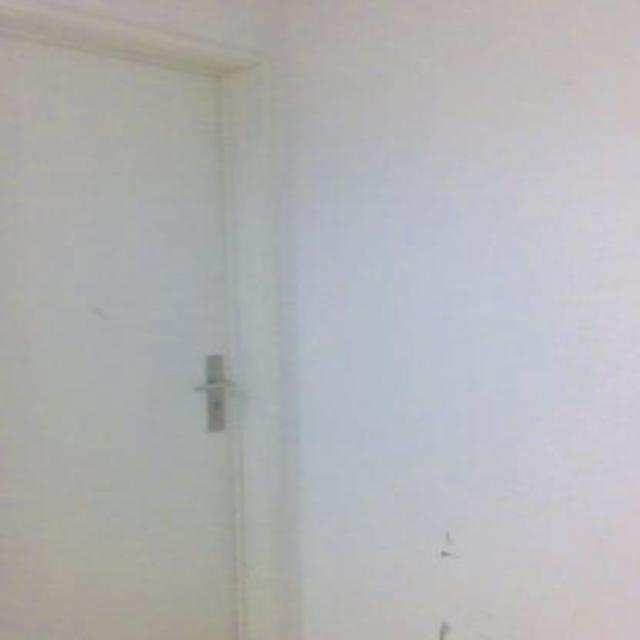door: (0, 0, 276, 638)
